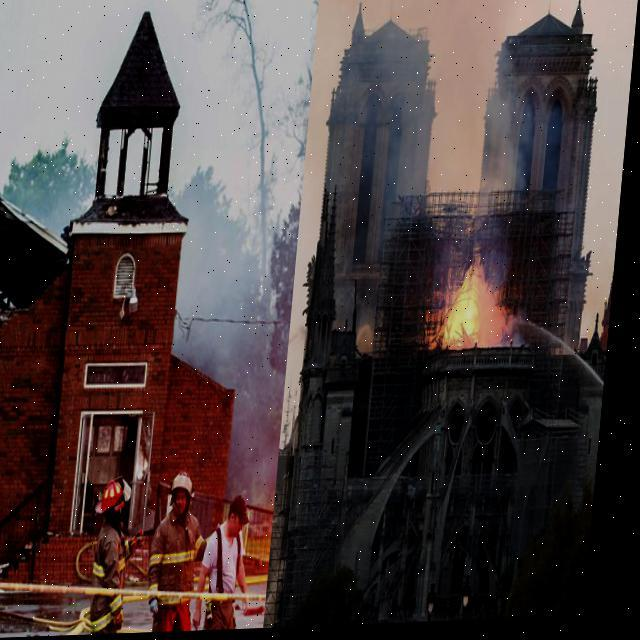Fire: (422, 234, 546, 368)
